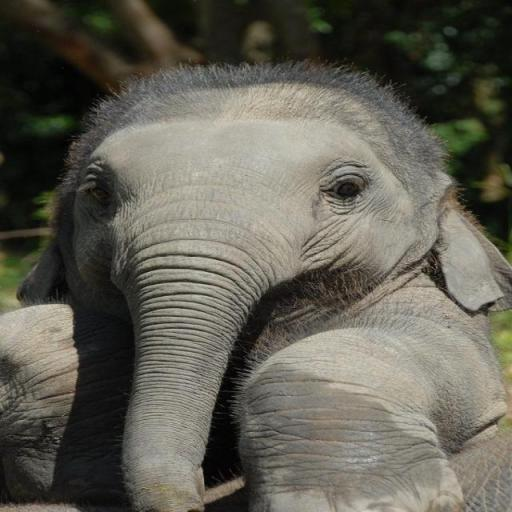Elephant: (4, 57, 510, 510)
